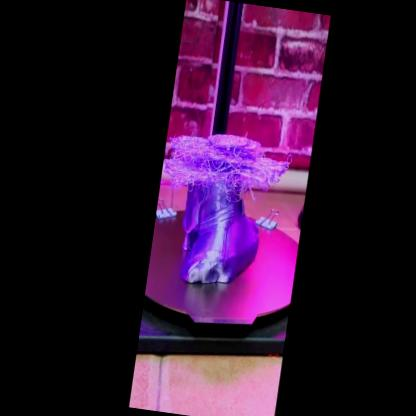fail: (163, 131, 293, 209)
